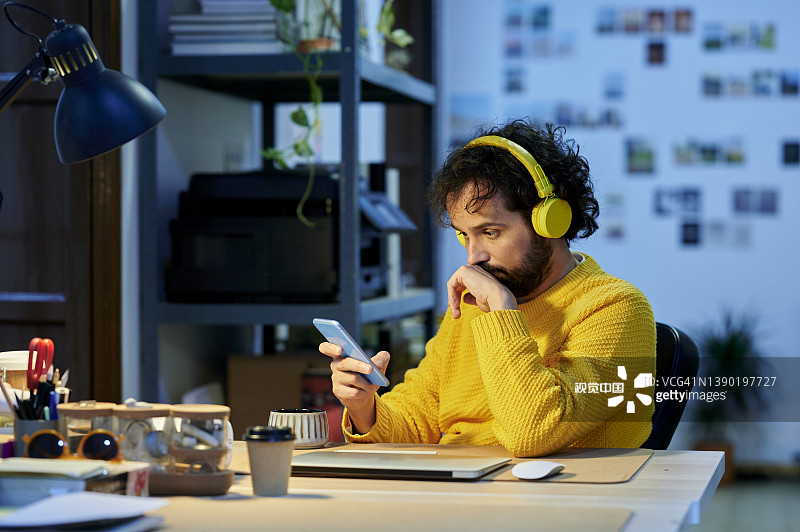no-phone: (436, 265, 522, 324)
reading: (295, 305, 399, 427)
